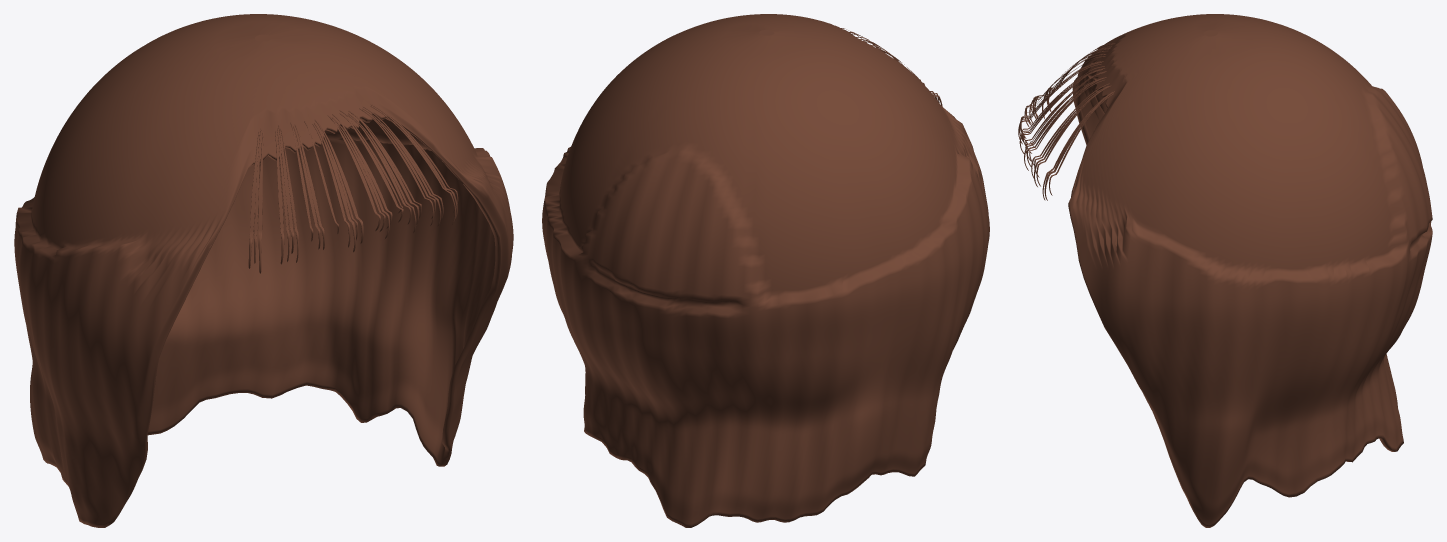
File: side-sweep-cap.glb
3 views of the same model, side by side, from view 1: azimuth 30°, elevation 25°; view 2: azimuth 150°, elevation 25°; view 3: azimuth 270°, elevation 25° (orthographic). The views are drawn at different scales.
Parts seen in each view (by area): view 1: Hair / layered lob, Fringe / fine strands; view 2: Hair / layered lob; view 3: Hair / layered lob, Fringe / fine strands.
Part boxes in pixels (x1,y1,x2,y2): Hair / layered lob: (14, 14, 513, 527); Fringe / fine strands: (248, 104, 458, 273); Hair / layered lob: (542, 14, 989, 527); Hair / layered lob: (1068, 14, 1432, 527); Fringe / fine strands: (1018, 43, 1115, 200).
Size of the model in its own units: 0.8388 by 0.8705 by 0.7815.
